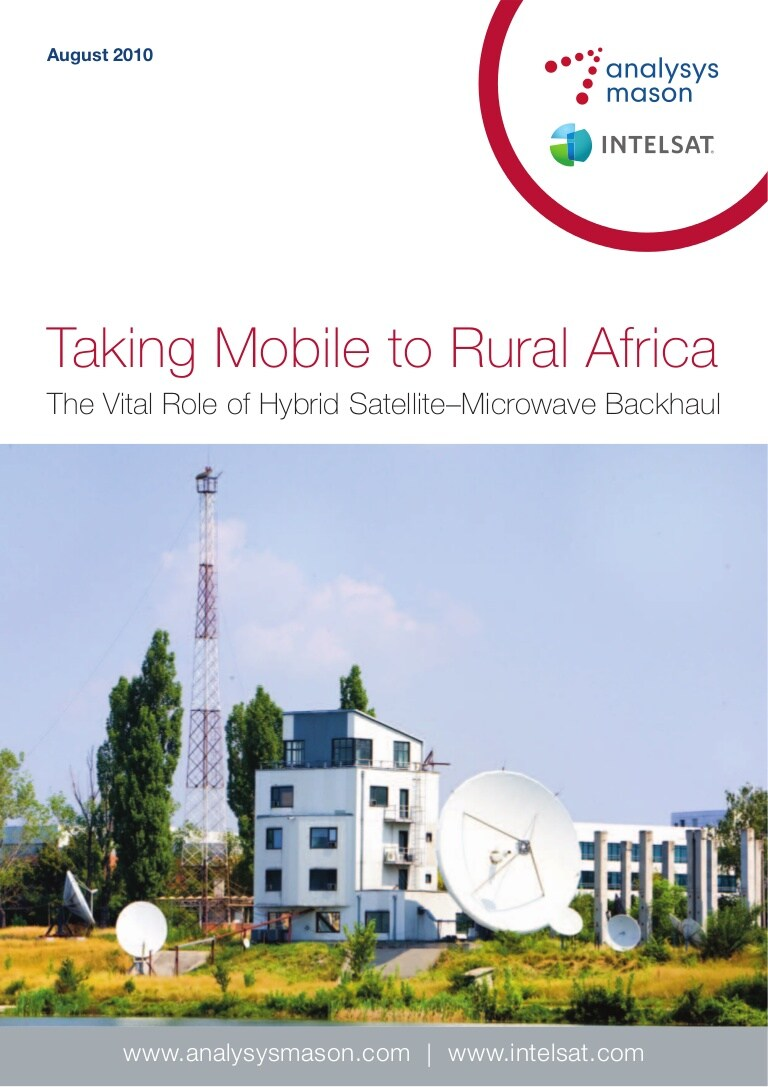ba: (411, 749, 577, 952), (103, 892, 172, 972)
